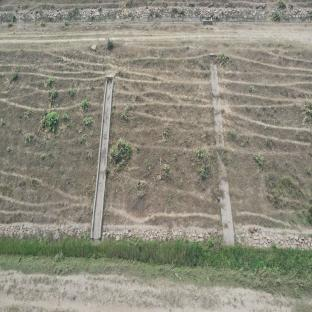rock_toe: (102, 228, 220, 256), (1, 226, 90, 254), (236, 234, 311, 256)
slope_drain: (209, 62, 236, 247), (90, 76, 116, 240)
